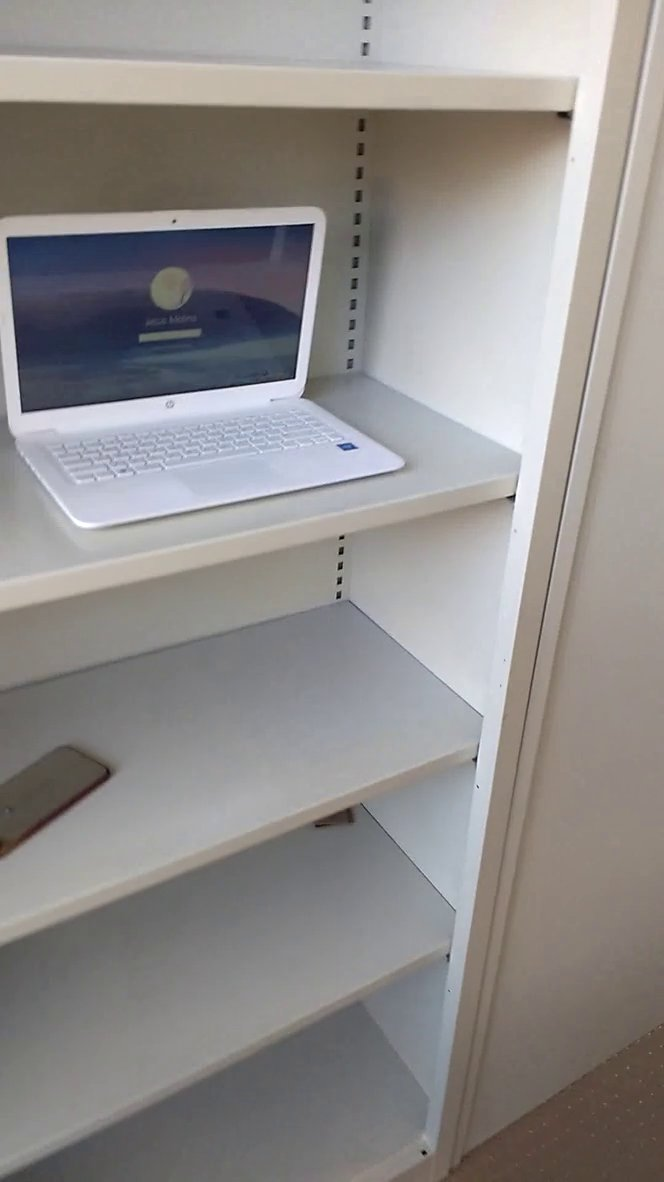laptop: (2, 173, 426, 551)
phone: (1, 733, 119, 875)
